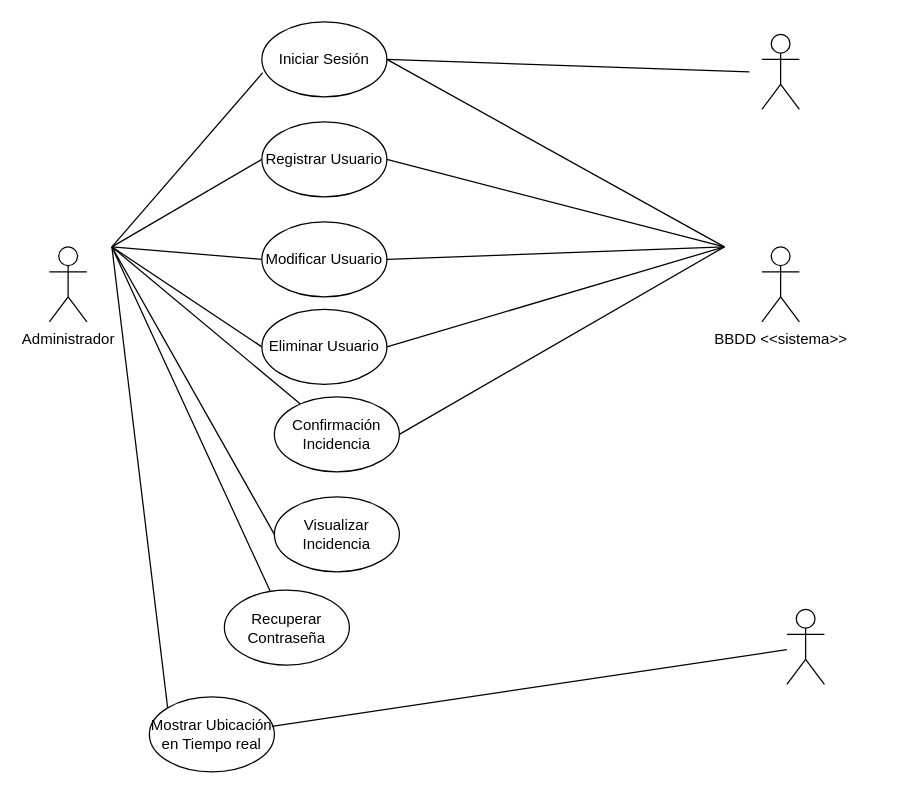
Image size: 919x794. Some labels were removed from this diagram. Here are the shapes that lost their labels. From the top down, the box of each, then its label:
(761, 33, 799, 109): Amazon Cognito
(786, 608, 824, 684): Módulo de Comunicaciones
